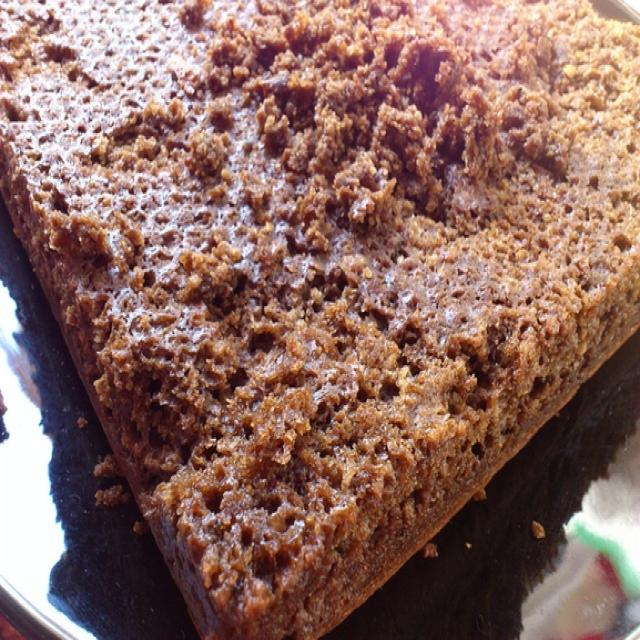蛋糕甜品: (10, 15, 626, 615)
